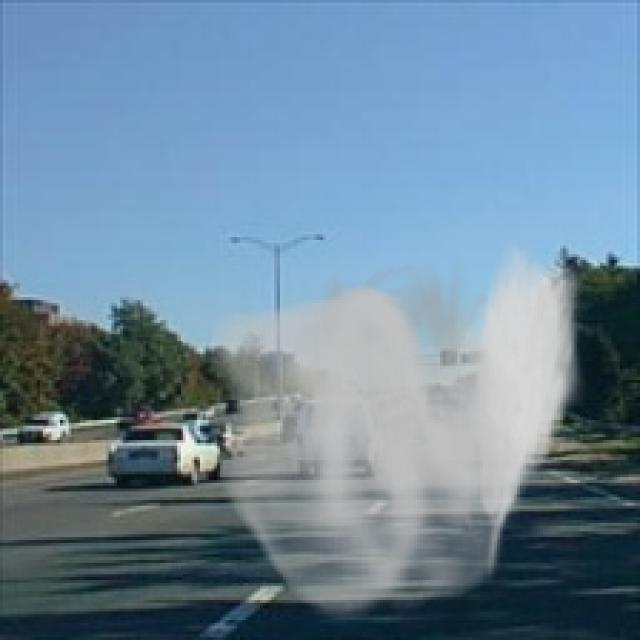Smoke: (208, 240, 586, 629)
